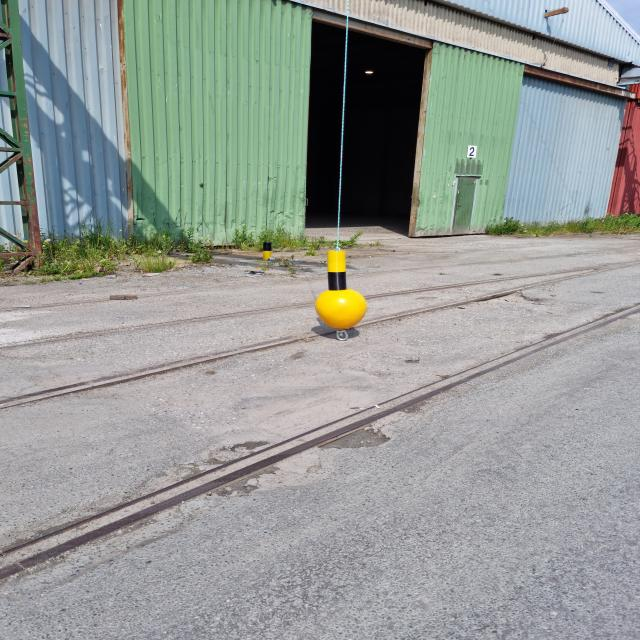west: (312, 252, 367, 328)
